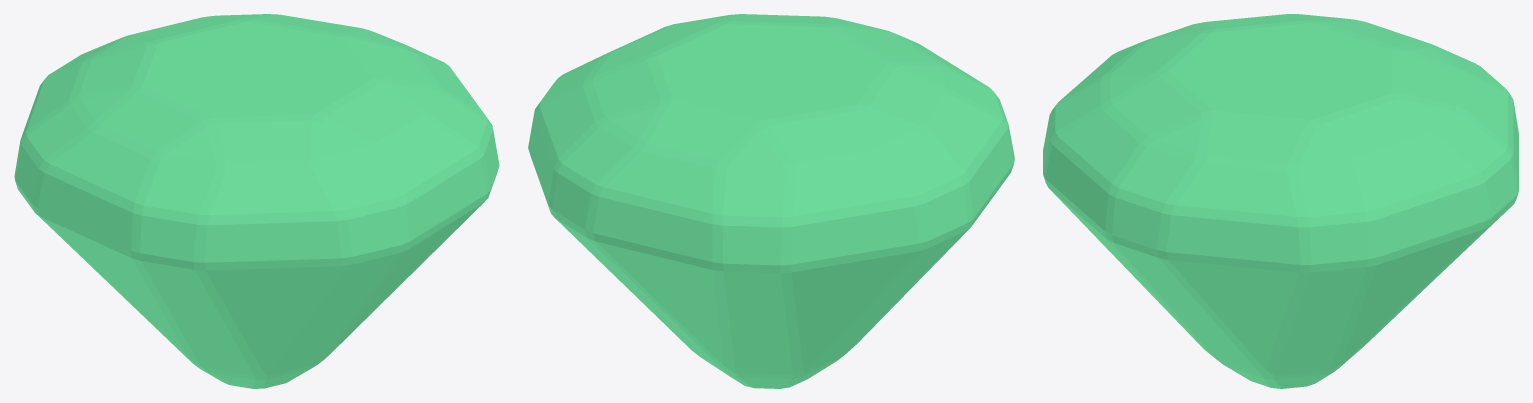
The model's file is token2.glb.
3 renders of one model, left to right at view 1: azimuth 30°, elevation 25°; view 2: azimuth 150°, elevation 25°; view 3: azimuth 270°, elevation 25°, orthographic.
Parts seen in each view (by area): view 1: Cone; view 2: Cone; view 3: Cone.
Part boxes in pixels (x1=…): Cone: x1=14, y1=14, x2=499, y2=388; Cone: x1=528, y1=14, x2=1014, y2=388; Cone: x1=1043, y1=14, x2=1518, y2=388.
Bounding box in the file's own units: 1.71 × 1.18 × 1.67.
Materials: 1 (1 with a texture image).
